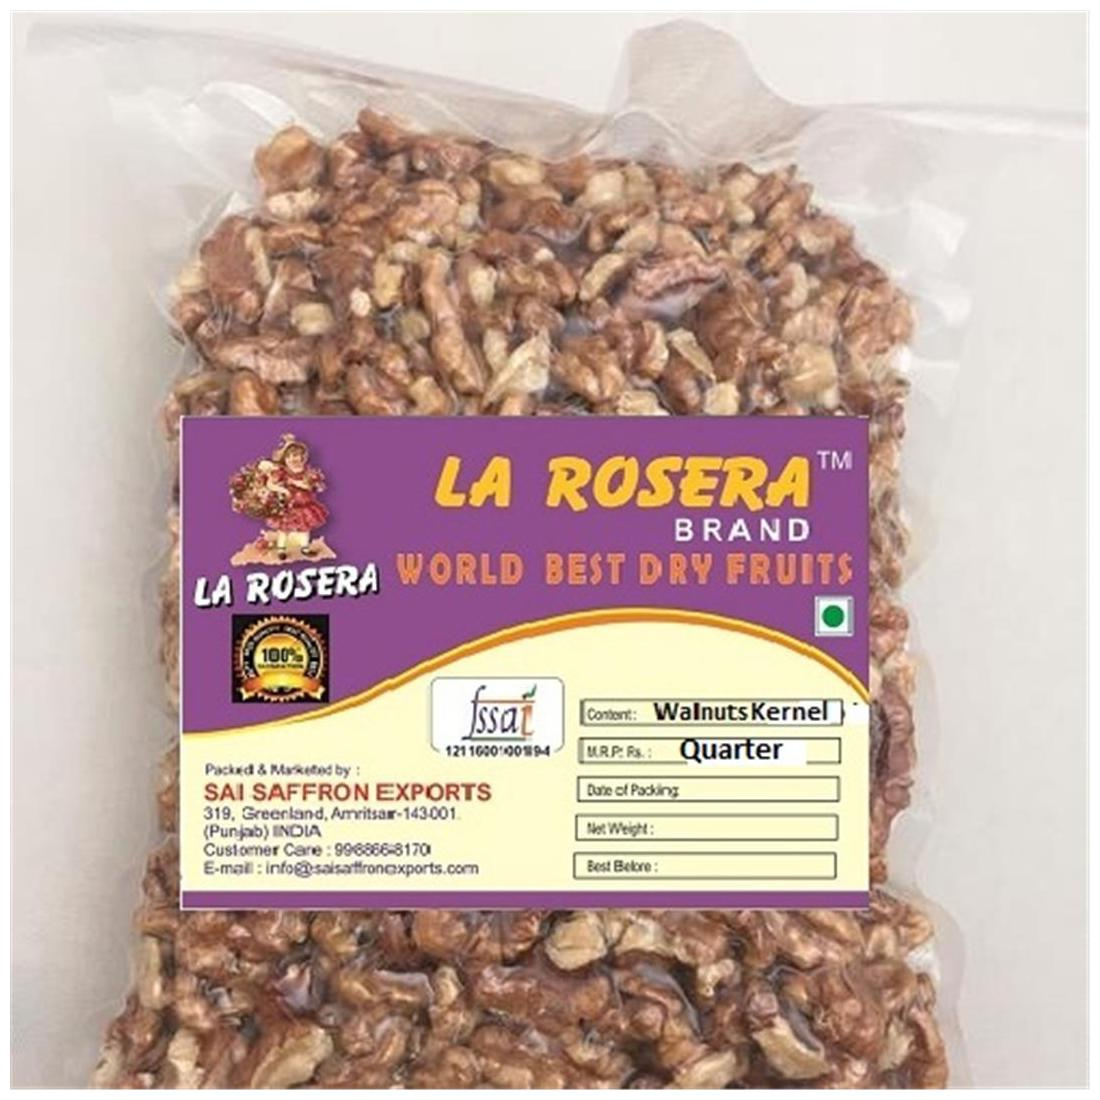fssai: (461, 684, 544, 741)
